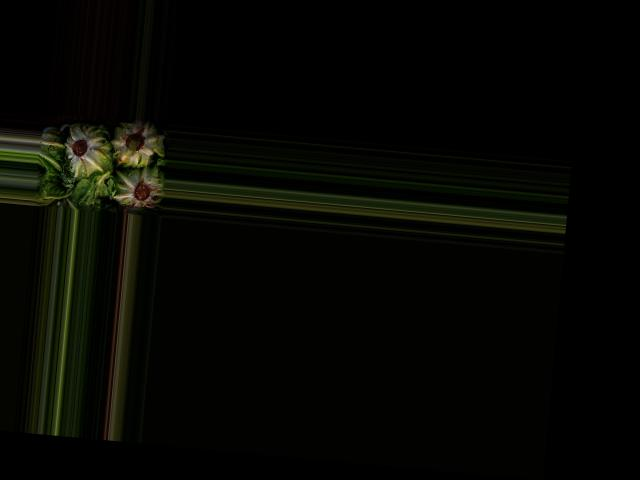lettuce: (111, 163, 165, 211)
